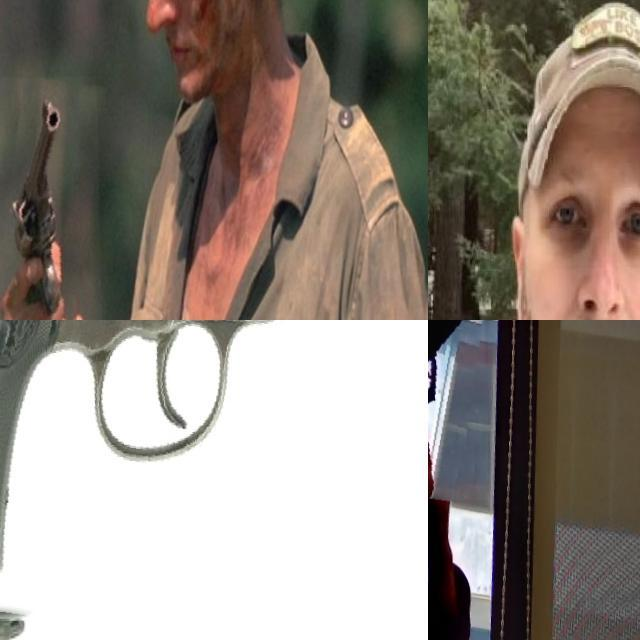-: (428, 36, 524, 320)
gun-knife-thesis - v11 Yolov5 augmented: (0, 320, 428, 640), (0, 76, 100, 320), (428, 320, 487, 502)
